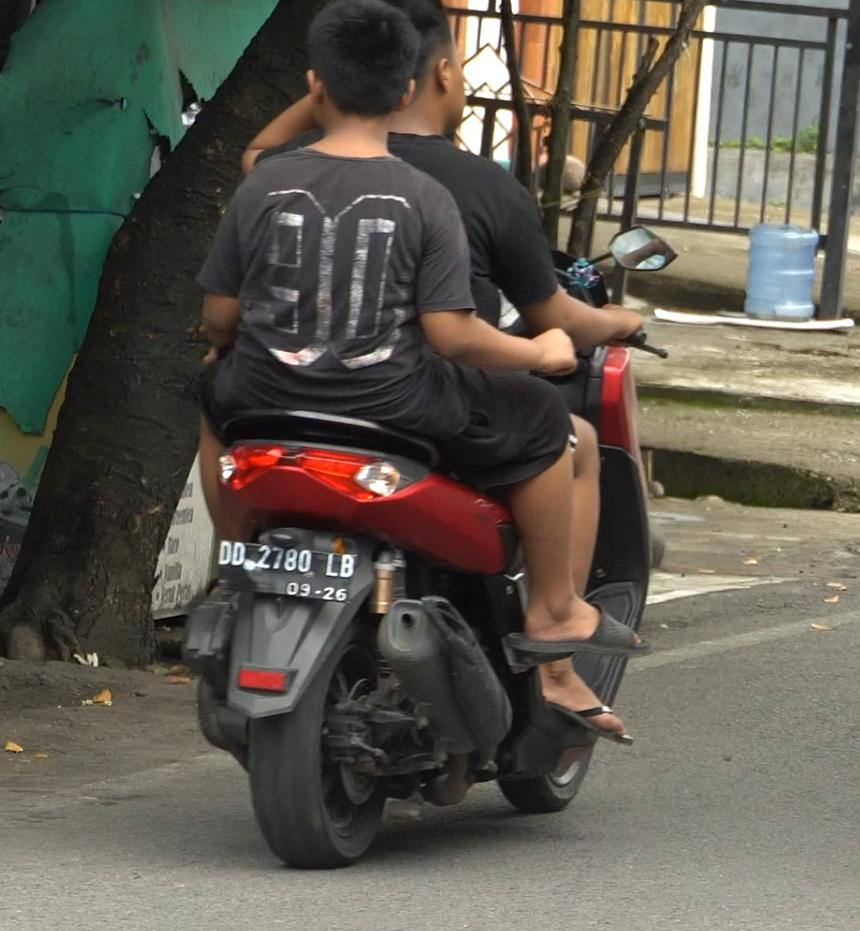number-plate: (215, 536, 359, 605)
